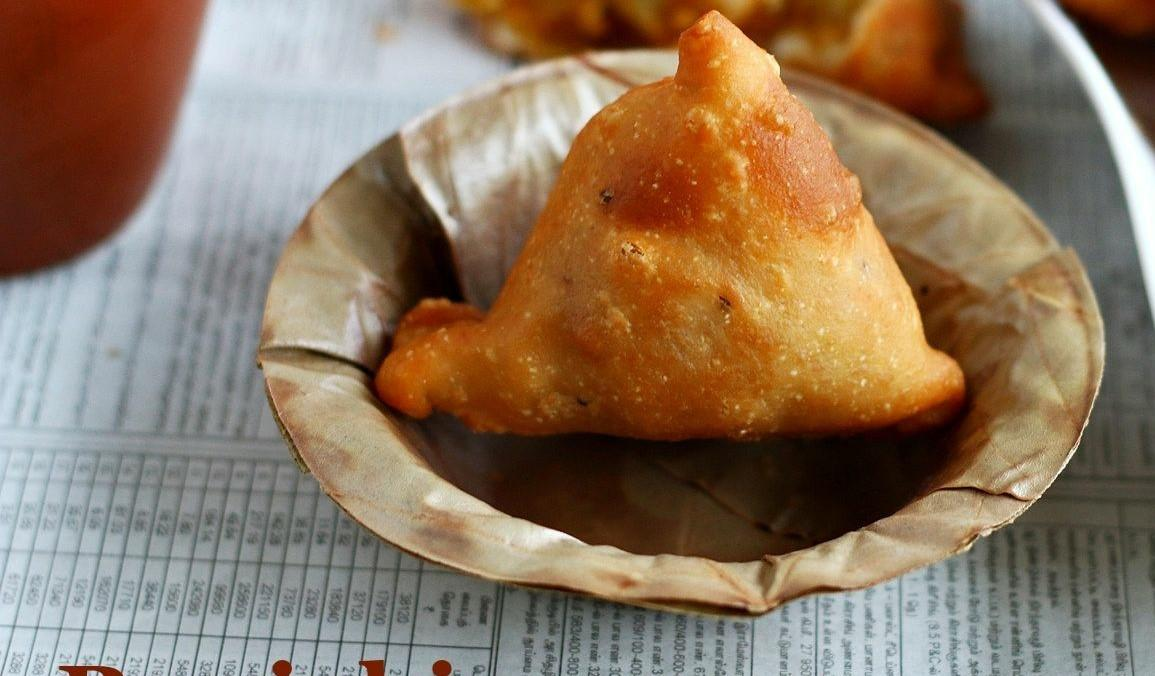Samosa: (372, 11, 971, 437)
